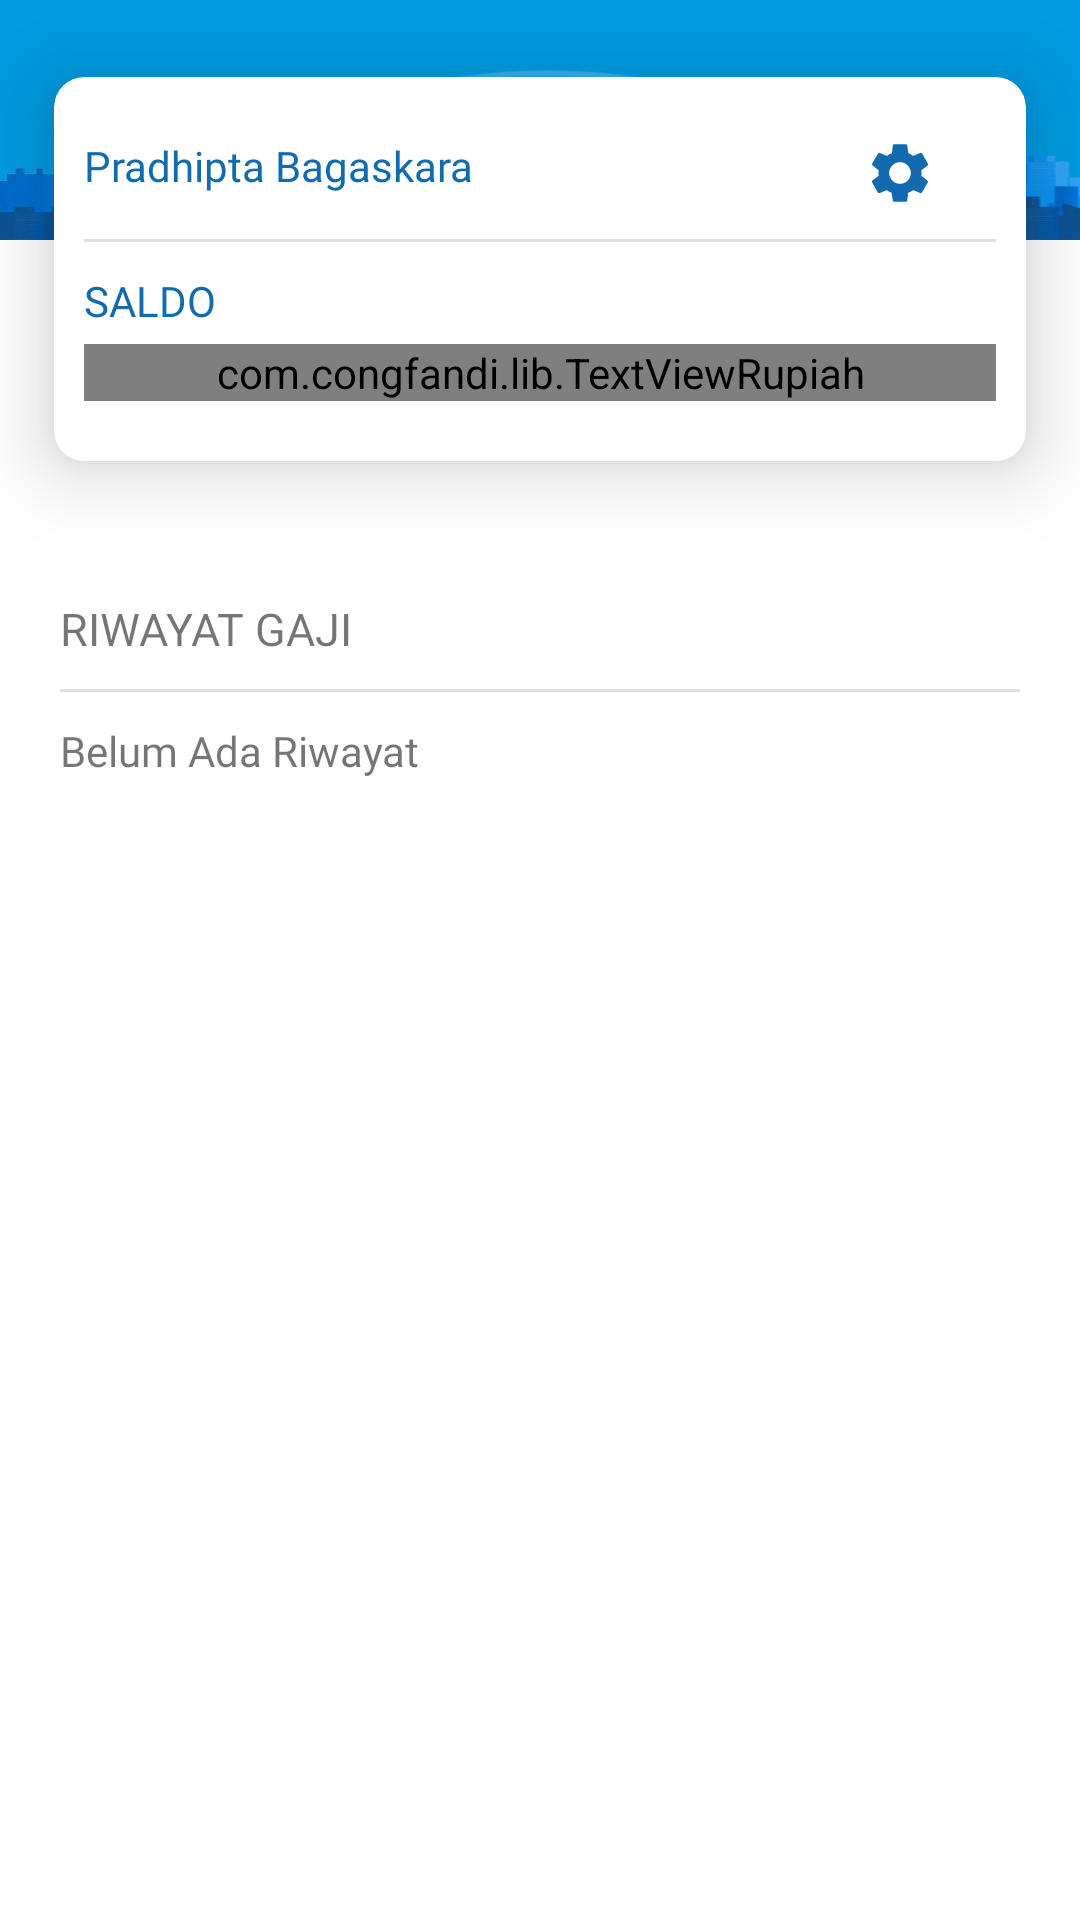

Named icons in this screenshot (1080px x 1920px) and their bounding boxes, (x1, y1, x2, y2):
settings: (872, 144, 928, 202)
